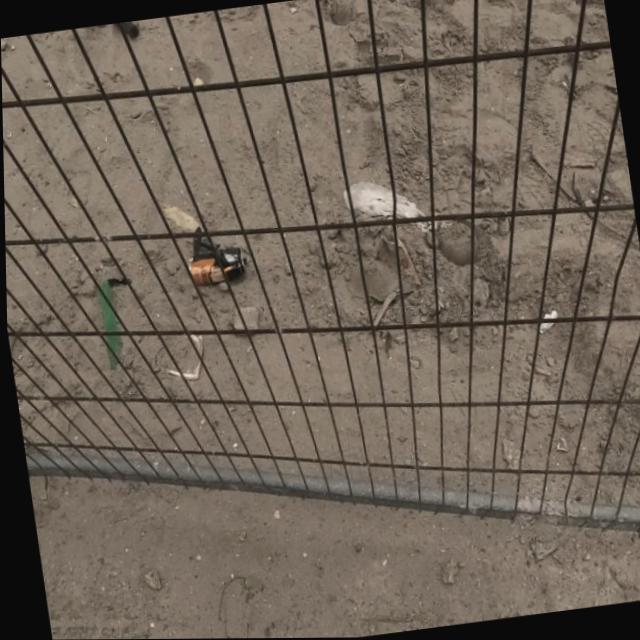Can-Metal: (181, 245, 246, 286)
